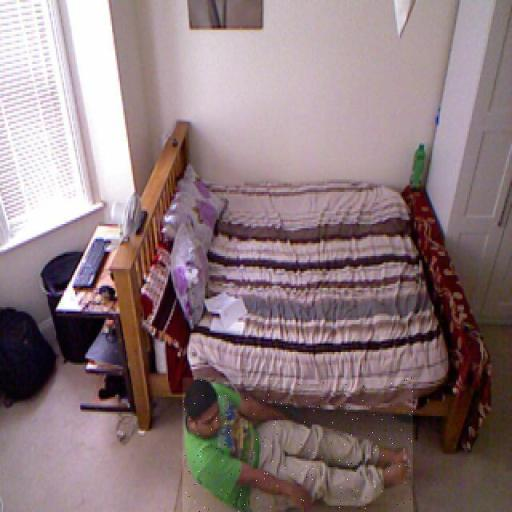Fall: (182, 377, 412, 512)
